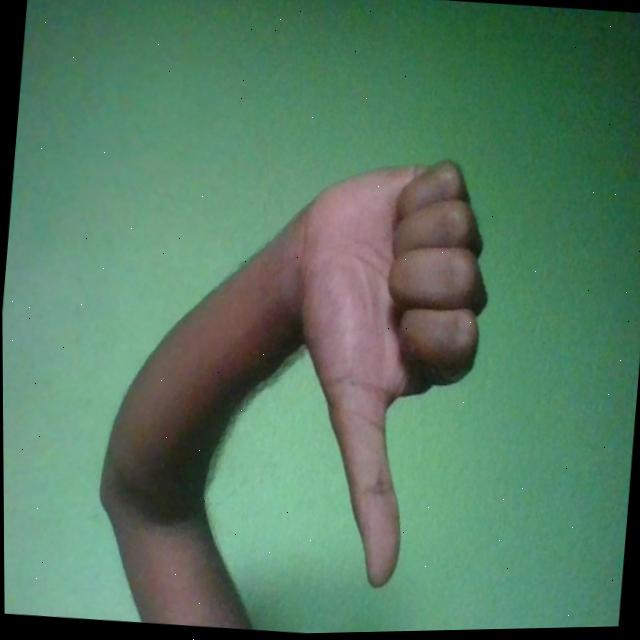Dislike: (262, 146, 500, 600)
